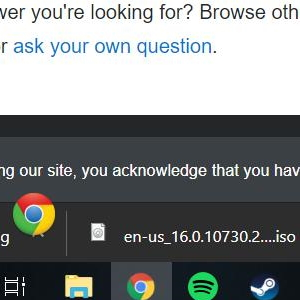chrome: (12, 192, 56, 236), (126, 273, 154, 300)
